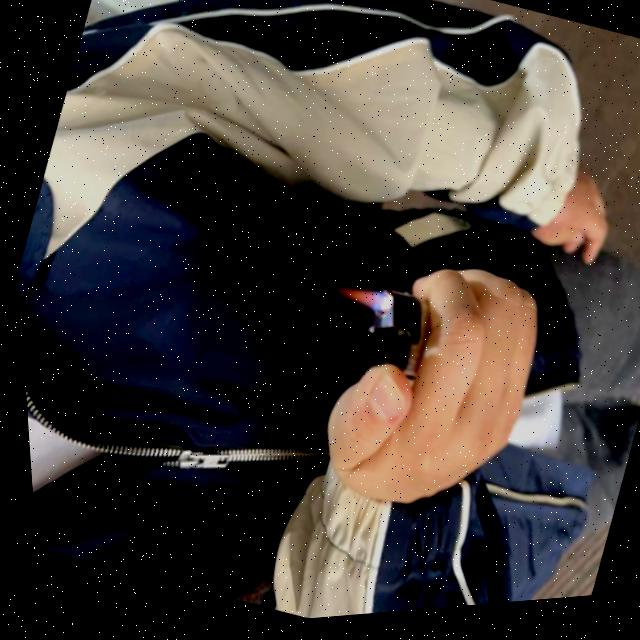Fire: (328, 282, 386, 324)
